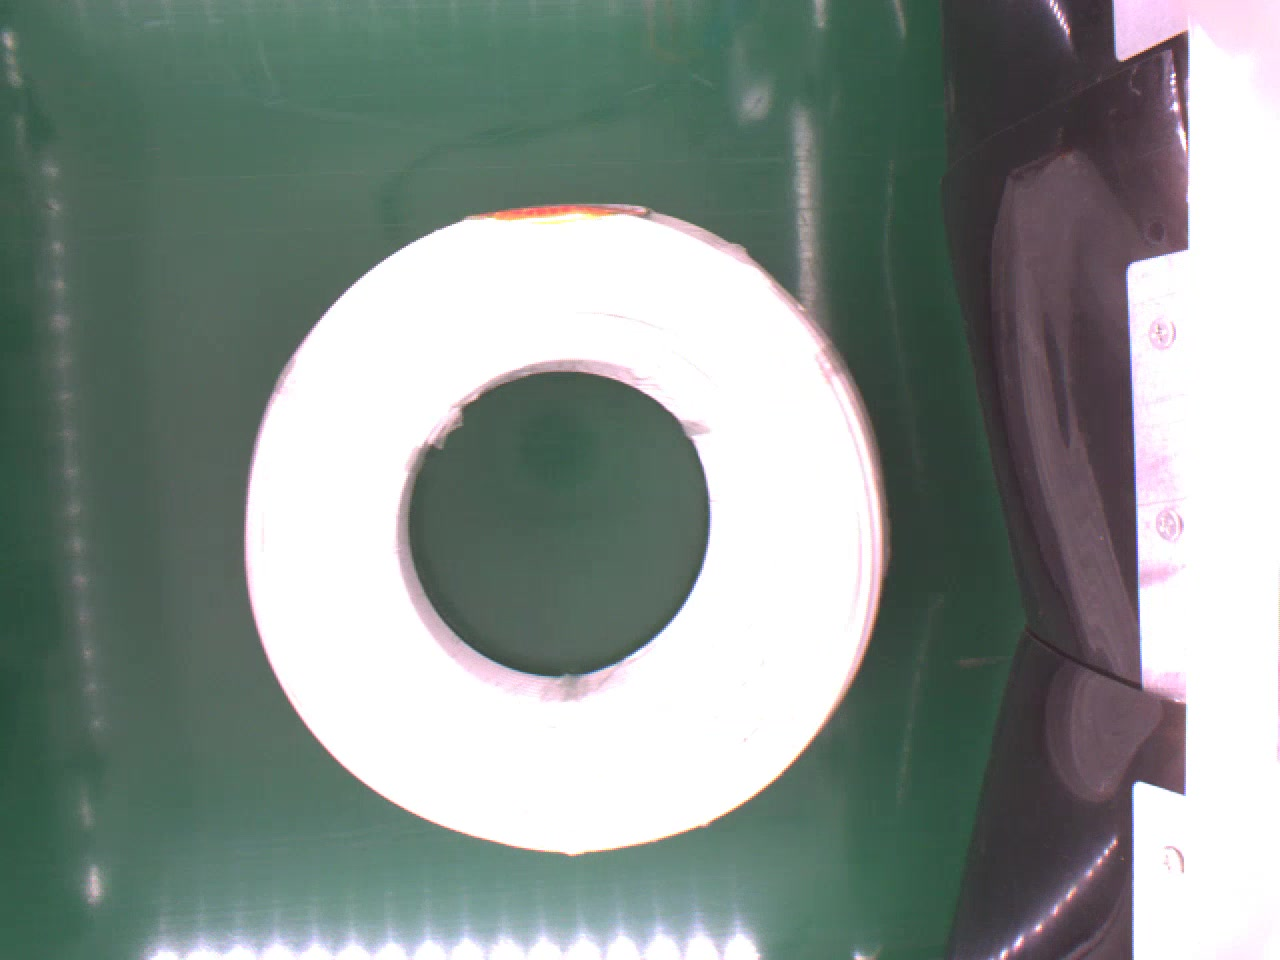white: (238, 195, 907, 864)
